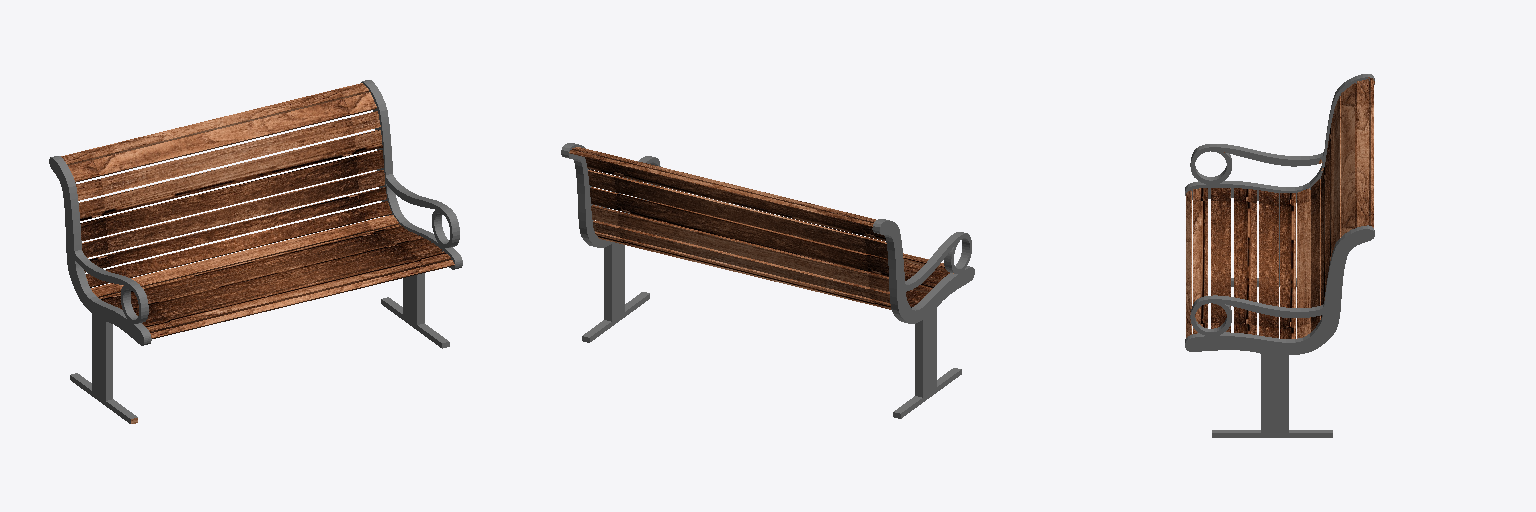
3 renders of one model, left to right at view 1: azimuth 30°, elevation 25°; view 2: azimuth 150°, elevation 25°; view 3: azimuth 270°, elevation 25°, orthographic.
Visible parts, largest first — view 1: Bank_02:Shape002; view 2: Bank_02:Shape002; view 3: Bank_02:Shape002.
Boxes of the visible parts, <box> form: Bank_02:Shape002: <box>49,80,462,423</box>; Bank_02:Shape002: <box>561,143,974,418</box>; Bank_02:Shape002: <box>1185,74,1374,437</box>.
Bounding box in the file's own units: 3.95 × 2.48 × 2.04.
2 materials, 1 textured.